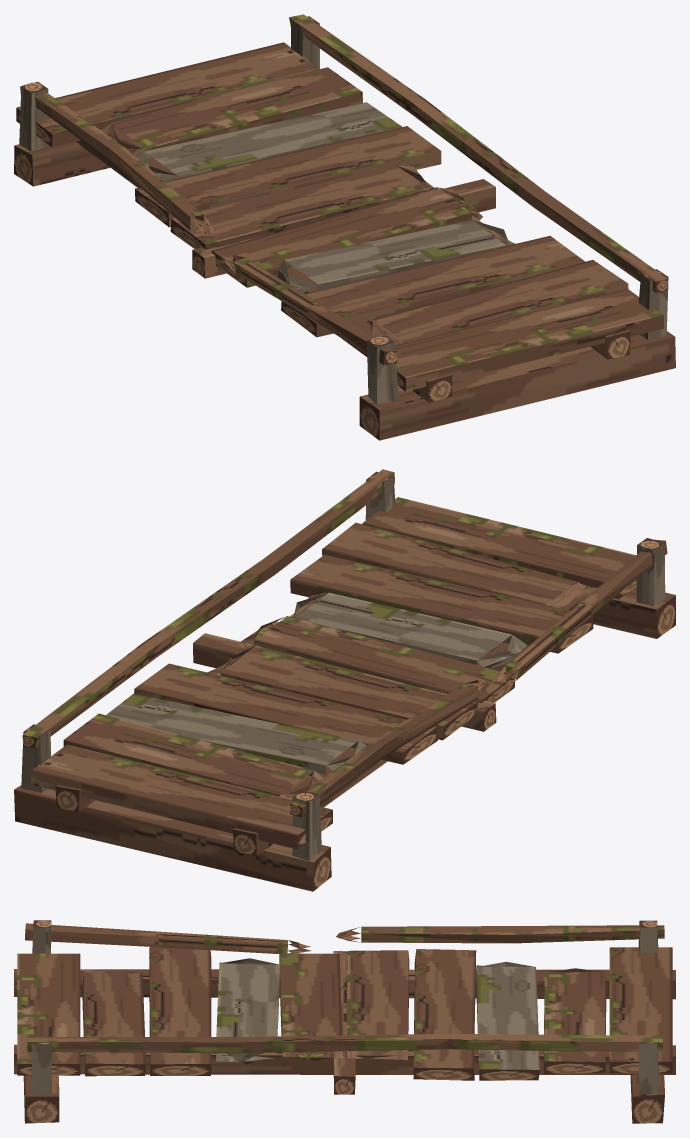
File: SM_ST09_BridgeDamaged.fbx
3 views of the same model, one above another, from view 1: azimuth 30°, elevation 25°; view 2: azimuth 150°, elevation 25°; view 3: azimuth 270°, elevation 25° (orthographic). The views are drawn at different scales.
Parts seen in each view (by area): view 1: ST09_Bridge; view 2: ST09_Bridge; view 3: ST09_Bridge.
Part boxes in pixels (x1=…): ST09_Bridge: x1=14, y1=14, x2=675, y2=440; ST09_Bridge: x1=14, y1=469, x2=675, y2=891; ST09_Bridge: x1=14, y1=920, x2=675, y2=1123.
Bounding box in the file's own units: 1.84 × 0.5457 × 4.04.
